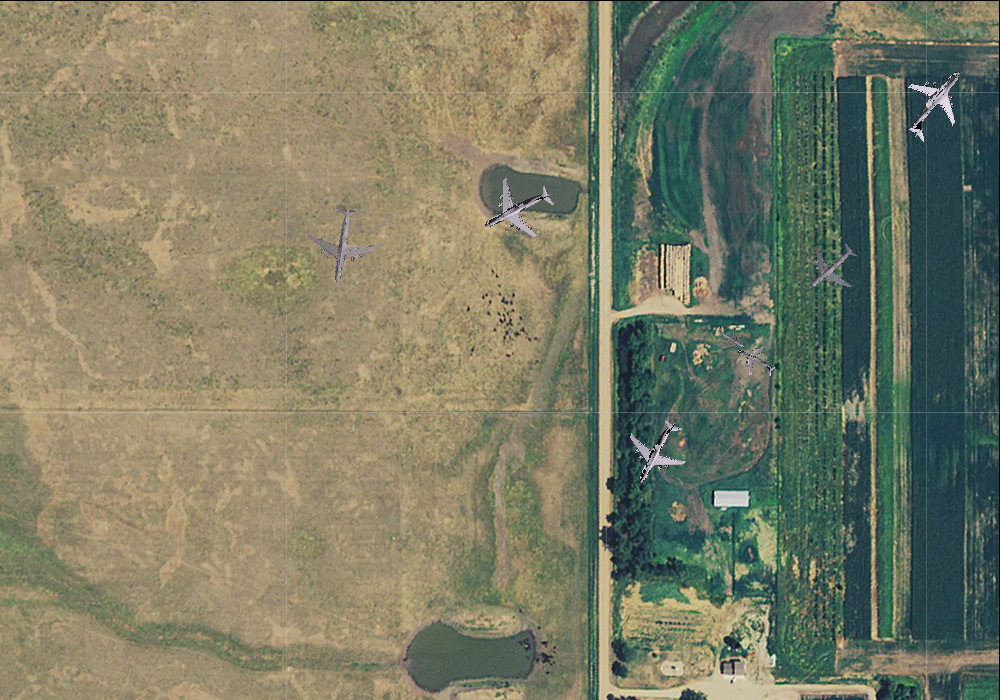plane: (884, 50, 989, 156), (468, 161, 566, 258), (612, 407, 702, 498), (301, 201, 382, 287), (791, 228, 871, 307), (728, 334, 783, 387), (710, 317, 752, 358)
